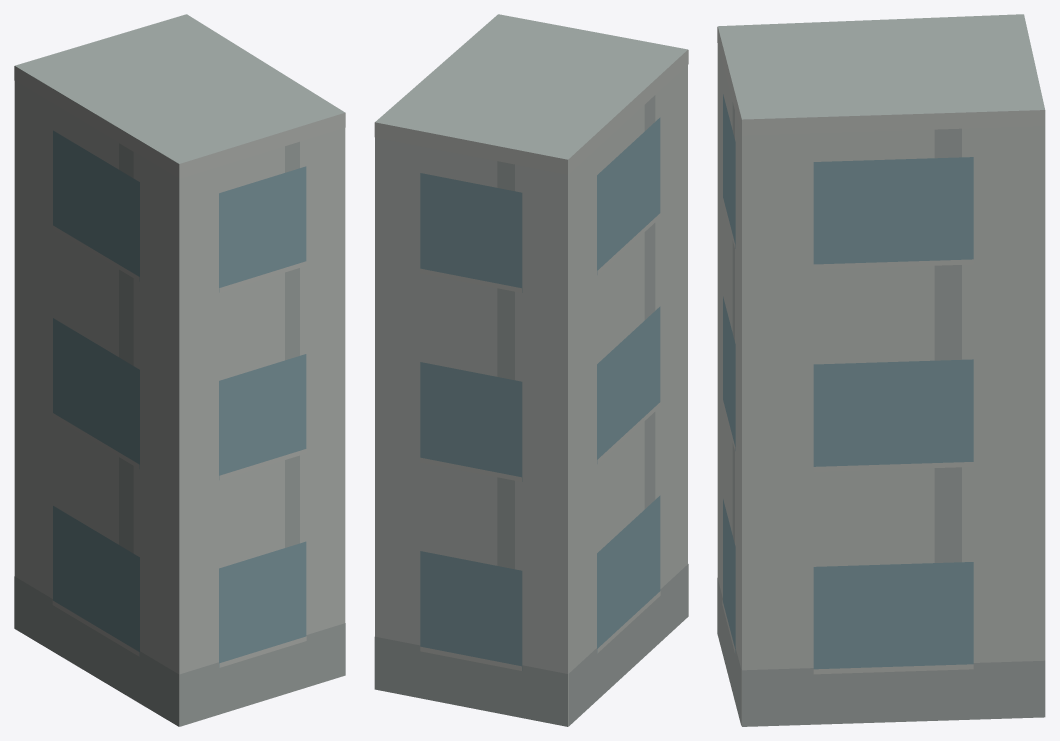
Rendered from survey-upis-32634485.glb.
The picture shows the model from 3 angles, left to right: view 1: azimuth 30°, elevation 25°; view 2: azimuth 150°, elevation 25°; view 3: azimuth 270°, elevation 25°; orthographic projection. The views are drawn at different scales.
Parts seen in each view (by area): view 1: survey-upis-32634485.tmp; view 2: survey-upis-32634485.tmp; view 3: survey-upis-32634485.tmp.
Boxes of the visible parts, x1,y1,x2,y2 form: survey-upis-32634485.tmp: (14, 14, 345, 726); survey-upis-32634485.tmp: (374, 14, 688, 726); survey-upis-32634485.tmp: (717, 14, 1045, 726).
Size of the model in its own units: 3.42 by 9.15 by 4.48.
